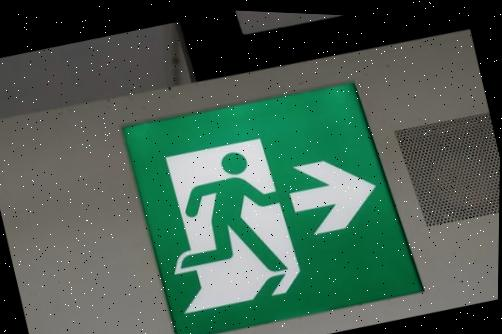emergency_exit: (121, 81, 425, 333)
